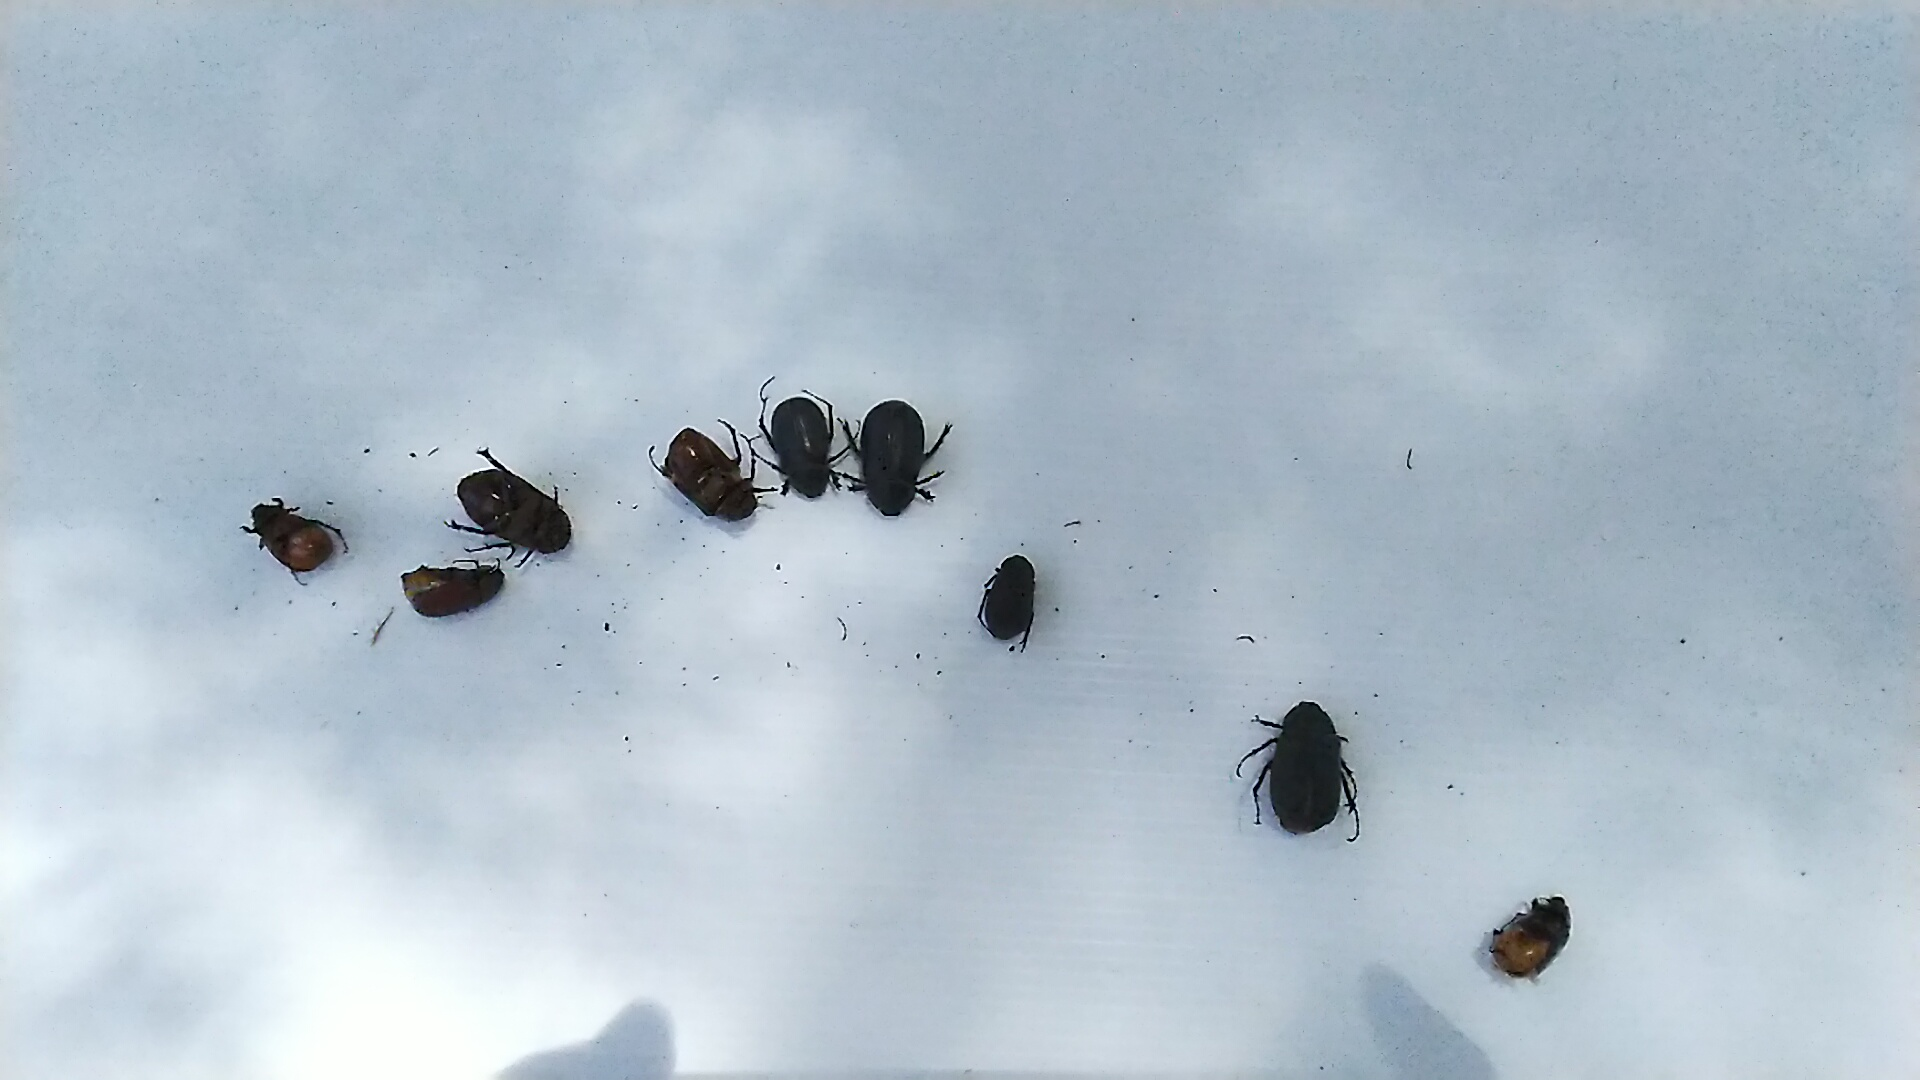INS-A: (1241, 659, 1371, 855), (443, 438, 593, 576), (833, 367, 953, 518), (749, 376, 860, 522), (641, 411, 774, 526), (235, 493, 353, 593), (1481, 884, 1589, 980), (397, 543, 510, 628), (971, 543, 1044, 653)
